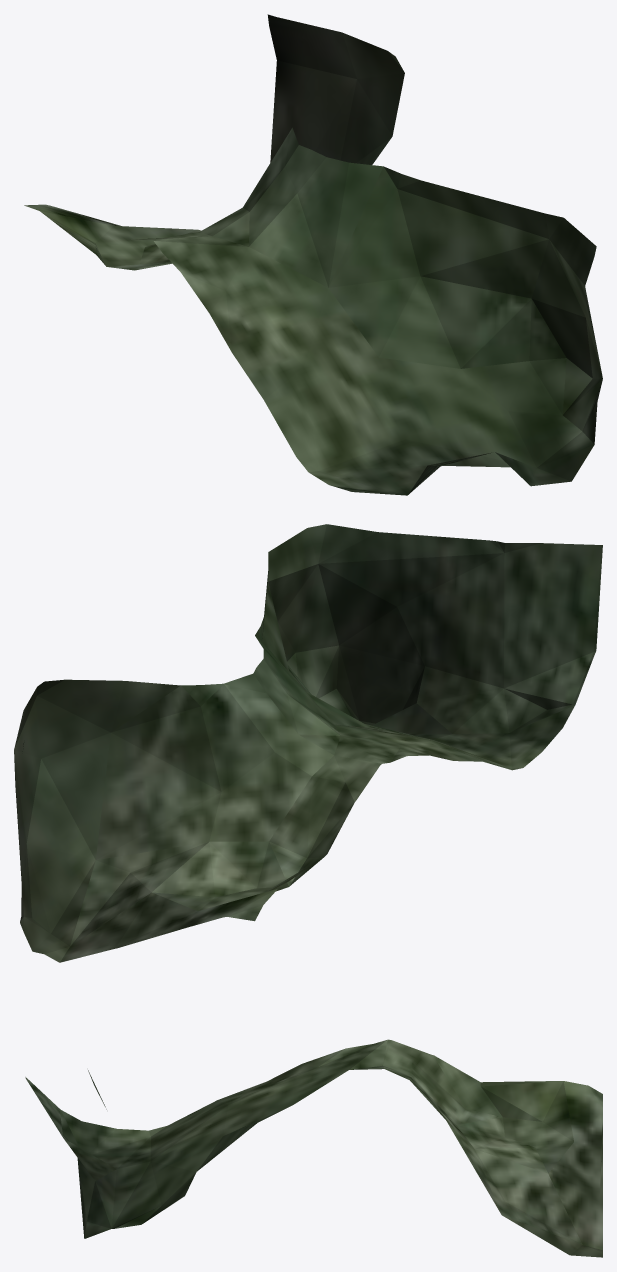
The picture shows the model from 3 angles, top to bottom: view 1: azimuth 30°, elevation 25°; view 2: azimuth 150°, elevation 25°; view 3: azimuth 270°, elevation 25°; orthographic projection. The views are drawn at different scales.
Bounding box in the file's own units: 0.8032 × 0.5629 × 1.69.
1 material, 1 textured.
